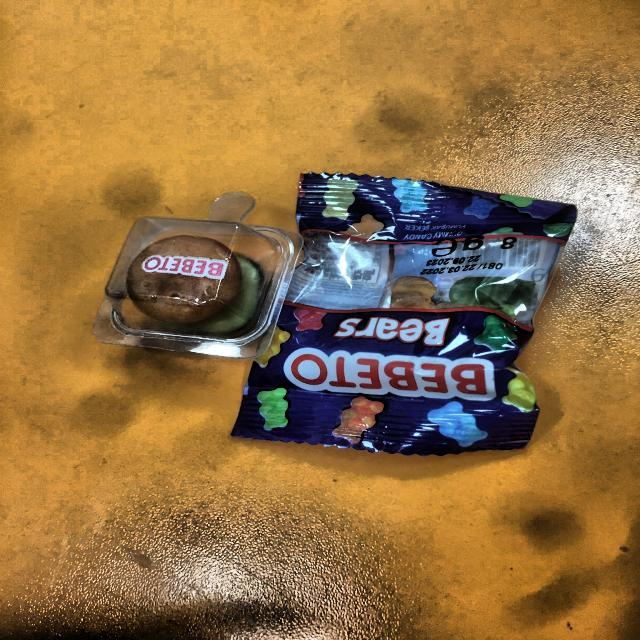Plastic: (231, 173, 568, 447), (91, 221, 297, 346)
